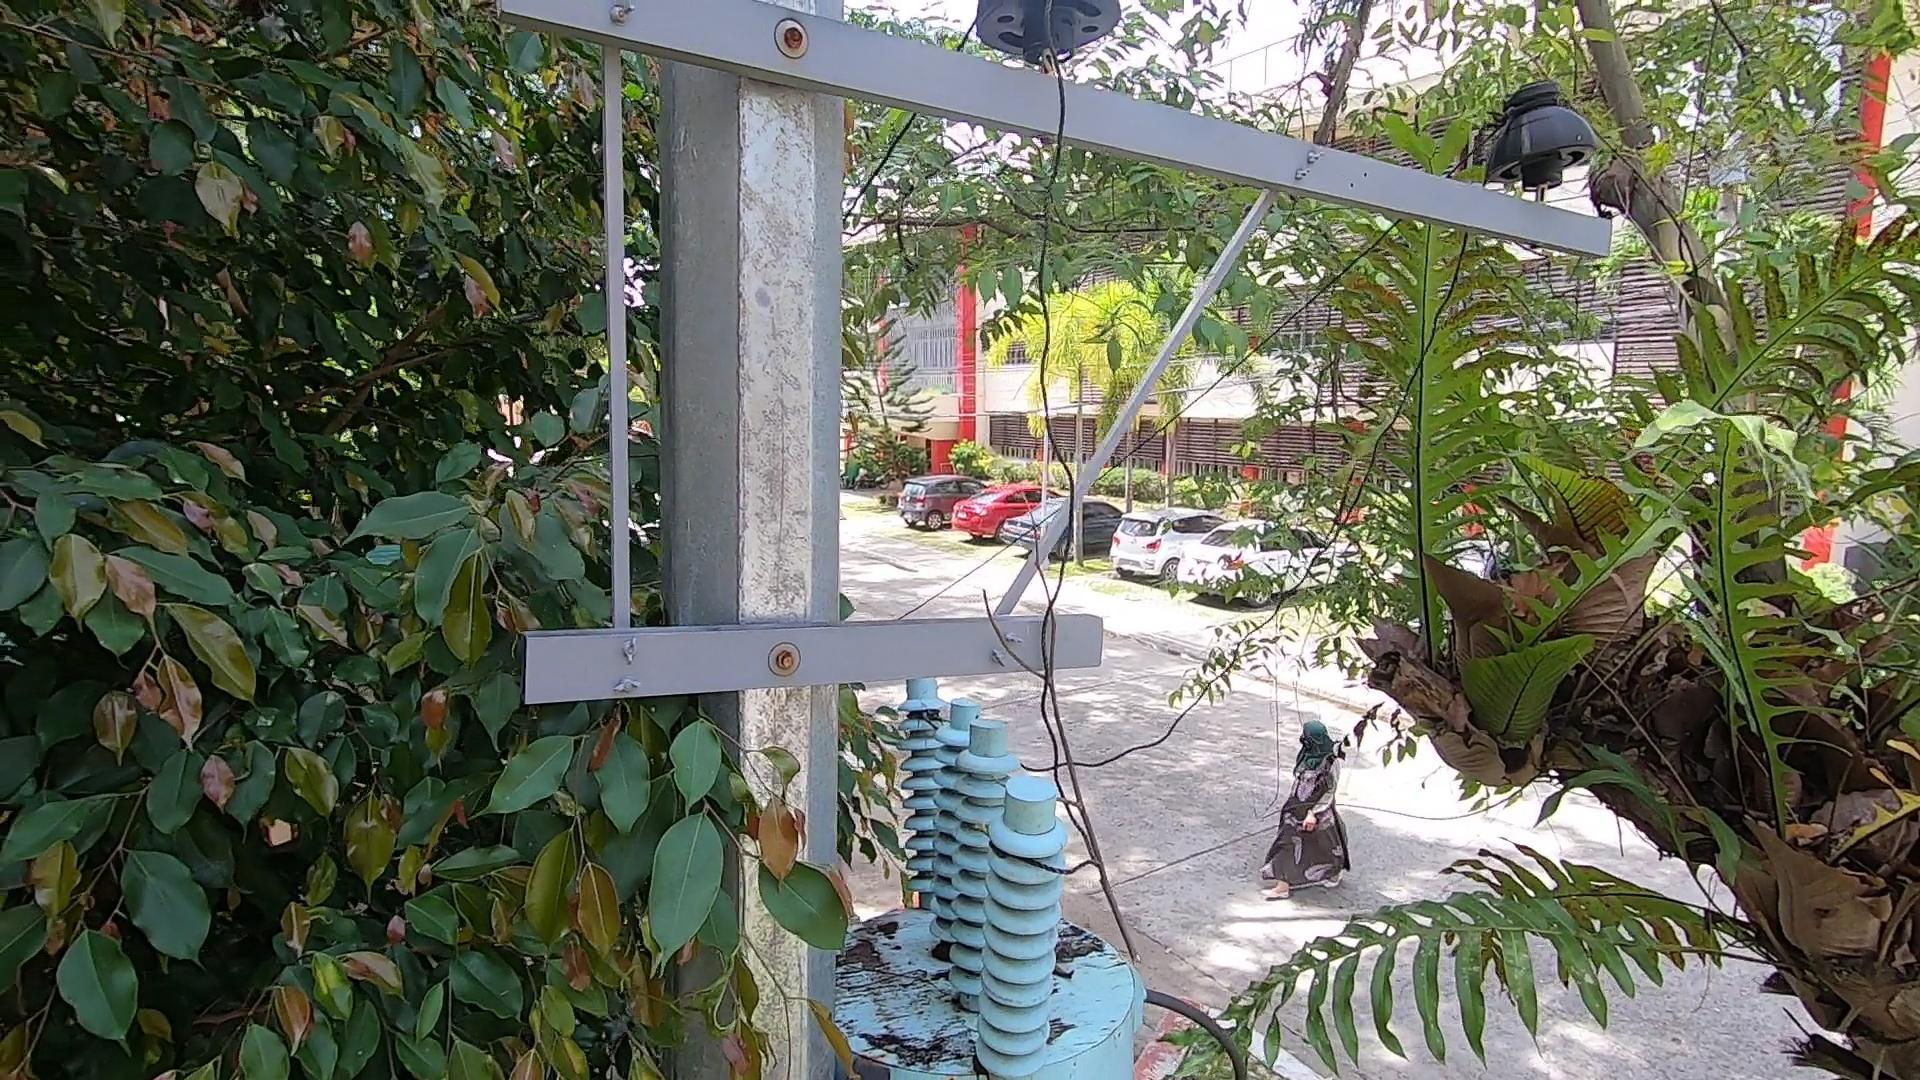leaf: (1044, 955, 1083, 994)
tree branch: (969, 448, 1174, 978)
